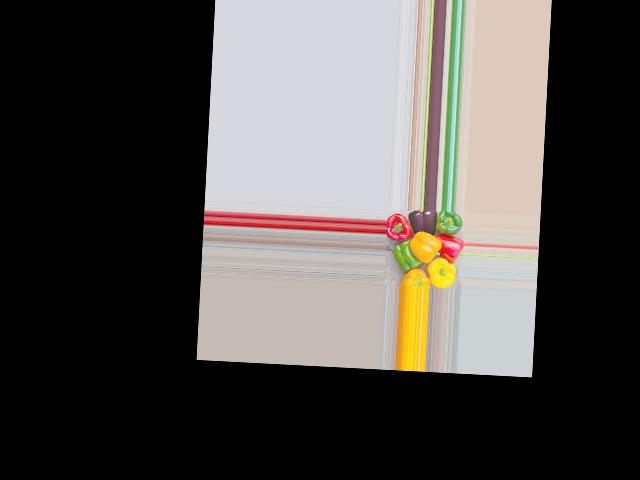bell_pepper: (392, 261, 430, 288)
